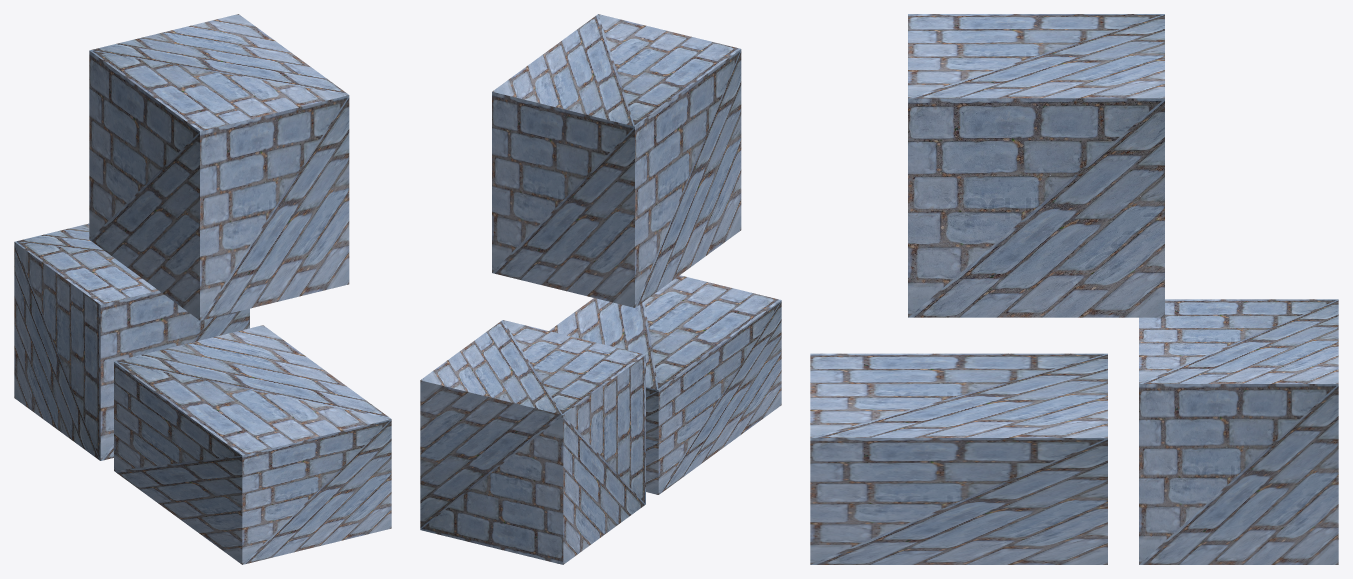
The model's file is threecube.dae.
3 views of the same model, side by side, from view 1: azimuth 30°, elevation 25°; view 2: azimuth 150°, elevation 25°; view 3: azimuth 270°, elevation 25° (orthographic). The views are drawn at different scales.
Parts seen in each view (by area): view 1: Cube_001, Cube_002, Cube; view 2: Cube_001, Cube, Cube_002; view 3: Cube_001, Cube_002, Cube.
Boxes of the visible parts, box(x1,y1,x2,y2) form: Cube_001: box(89, 14, 349, 320); Cube_002: box(114, 325, 391, 564); Cube: box(14, 223, 249, 460); Cube_001: box(492, 14, 741, 307); Cube: box(420, 320, 645, 564); Cube_002: box(549, 275, 781, 494); Cube_001: box(908, 14, 1164, 317); Cube_002: box(810, 353, 1107, 564); Cube: box(1139, 299, 1338, 564).
Bounding box in the file's own units: 2 × 5.29 × 5.15.
3 materials, 3 textured.
